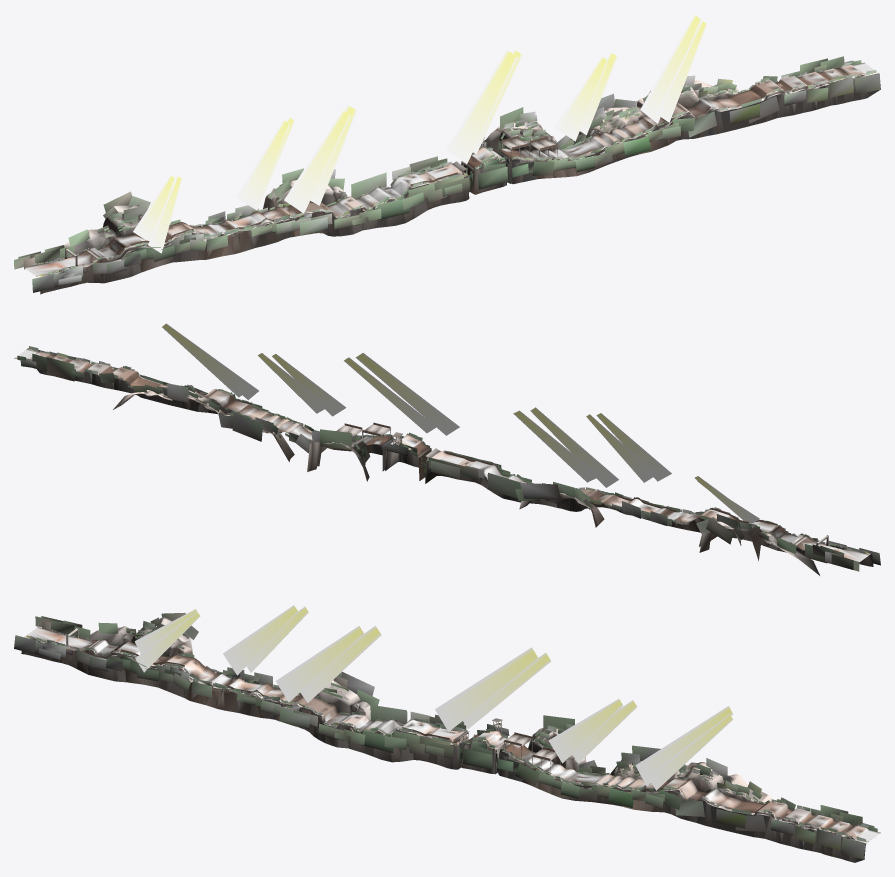
File: Forest_12.fbx
The picture shows the model from 3 angles, top to bottom: view 1: azimuth 30°, elevation 25°; view 2: azimuth 150°, elevation 25°; view 3: azimuth 330°, elevation 25°; orthographic projection.
Parts seen in each view (by area): view 1: Tree_01_A, Light_01, Mountain_05, Ground_01; view 2: Tree_01_A, Light_01, Mountain_05, Ground_01; view 3: Tree_01_A, Light_01, Mountain_05, Ground_01.
Boxes of the visible parts, bbox=[...] form: Tree_01_A: bbox=[14, 56, 880, 292]; Light_01: bbox=[133, 14, 706, 253]; Mountain_05: bbox=[37, 72, 880, 294]; Ground_01: bbox=[24, 62, 876, 276]; Tree_01_A: bbox=[17, 346, 880, 571]; Light_01: bbox=[162, 323, 759, 523]; Mountain_05: bbox=[27, 348, 873, 575]; Ground_01: bbox=[14, 349, 868, 561]; Tree_01_A: bbox=[14, 612, 877, 859]; Light_01: bbox=[134, 605, 732, 790]; Mountain_05: bbox=[21, 617, 867, 862]; Ground_01: bbox=[25, 627, 880, 841].
Bounding box in the file's own units: 59483 × 8719 × 4791.
